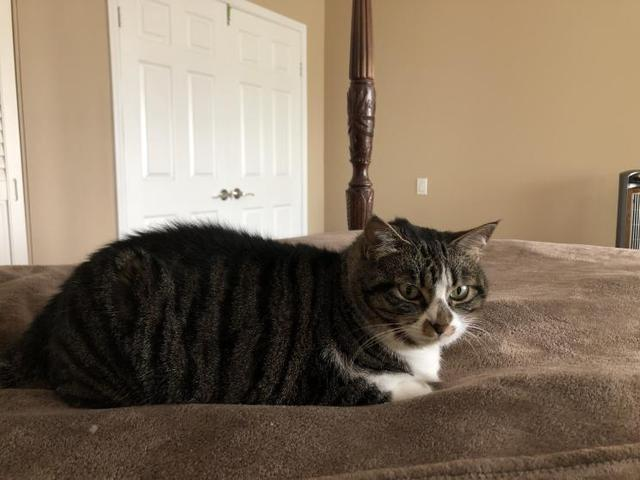playdoh: (3, 213, 503, 411)
